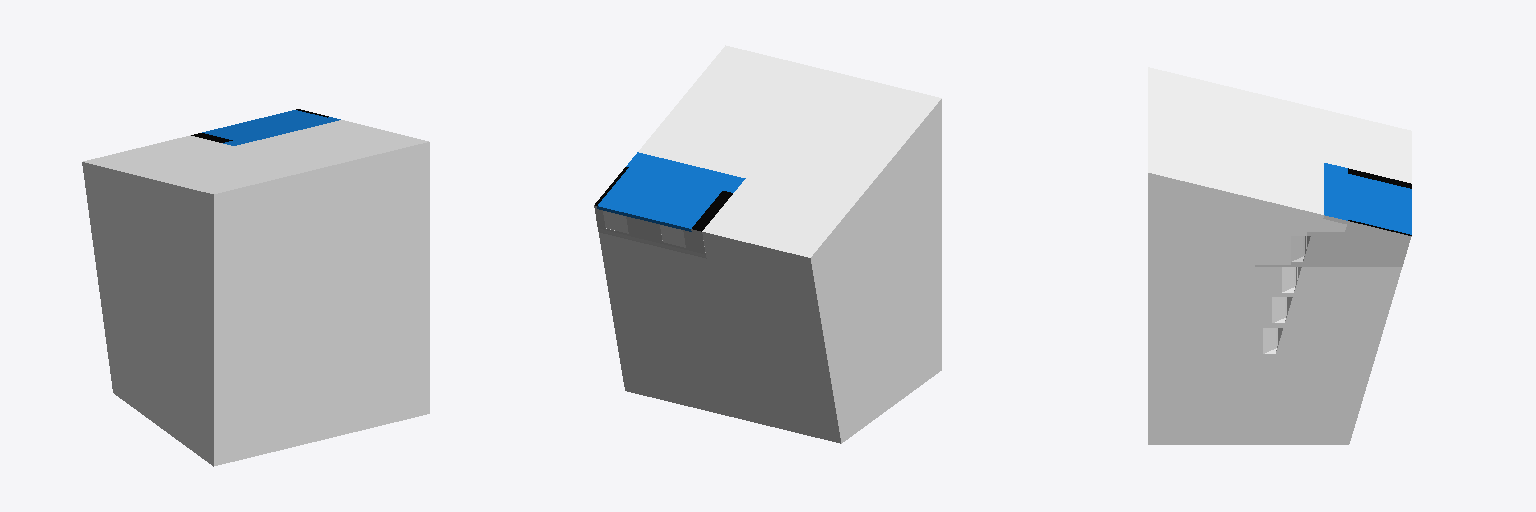
The model's file is linq_low_poly_complex.obj.
3 views of the same model, side by side, from view 1: azimuth 30°, elevation 25°; view 2: azimuth 150°, elevation 25°; view 3: azimuth 270°, elevation 25° (orthographic).
Parts seen in each view (by area): view 1: Cube.001; view 2: Cube.001; view 3: Cube.001.
Part boxes in pixels (left/top/right/bottom): Cube.001: left=82, top=109, right=429, bottom=466; Cube.001: left=594, top=45, right=941, bottom=443; Cube.001: left=1148, top=67, right=1411, bottom=444.
Bounding box in the file's own units: 2.7 × 3.24 × 2.84.